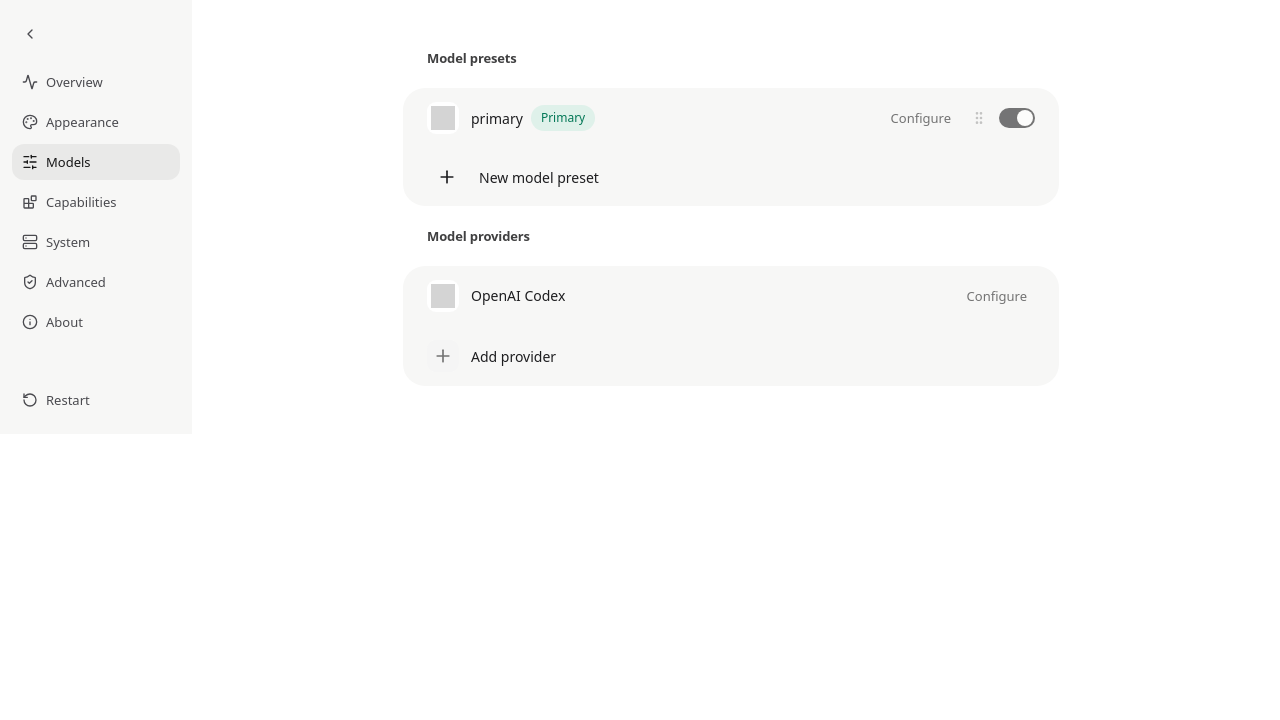
Test: Settings models › loads curated models for configured OAuth providers
Click the button "primary Primary Configure": (443,118) [427,102,959,134]
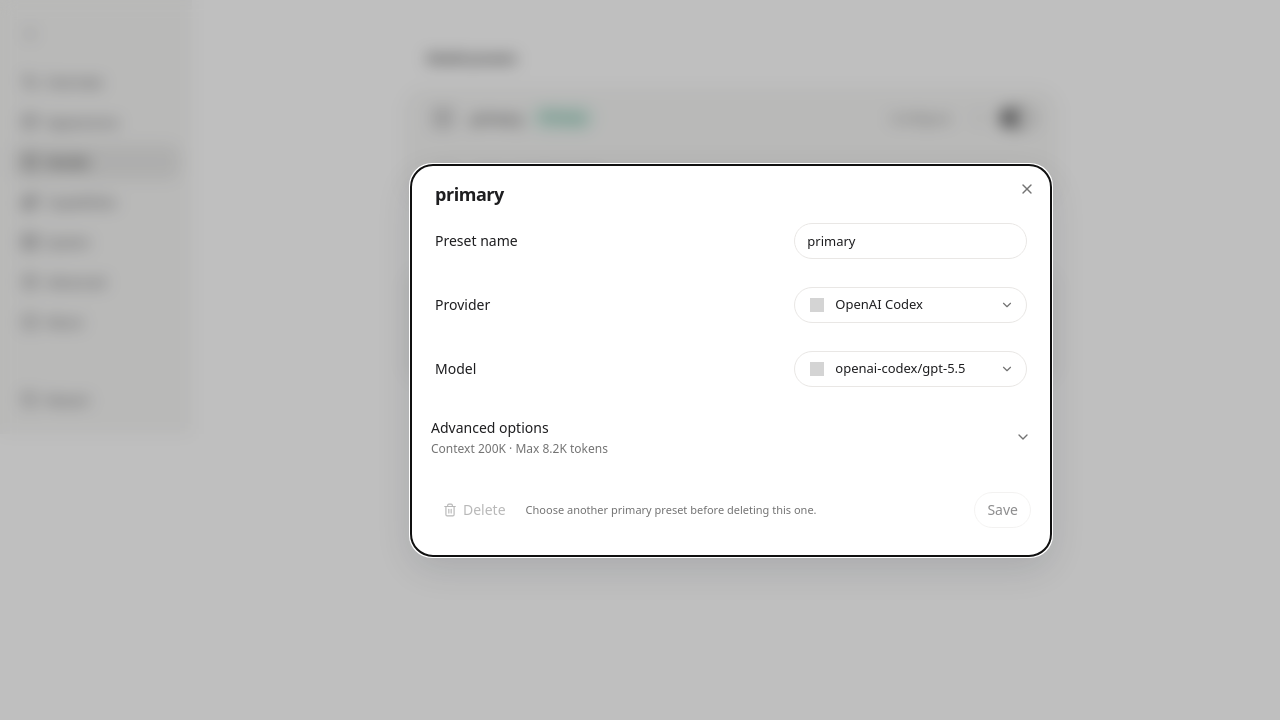
Click the button "openai-codex/gpt-5.5": (911,368) [794,350,1027,386]
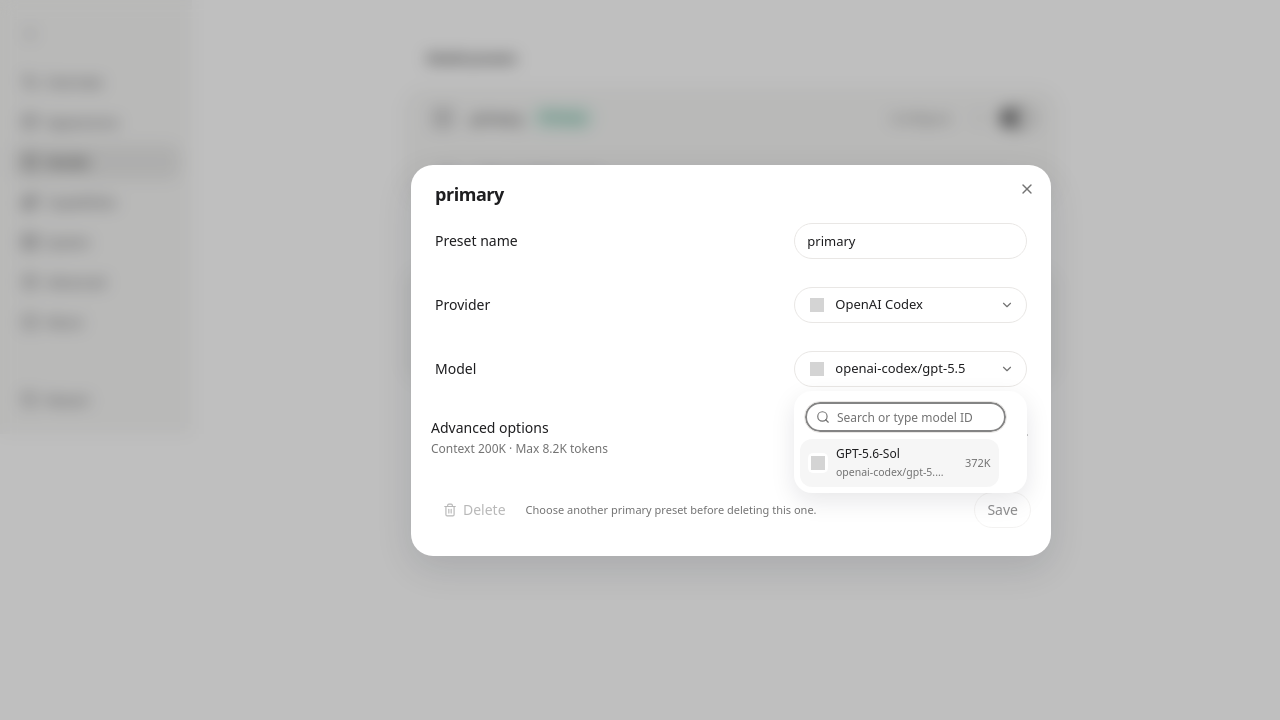
Expected: the text "GPT-5.6-Sol" is shown, [836,445,900,462]
